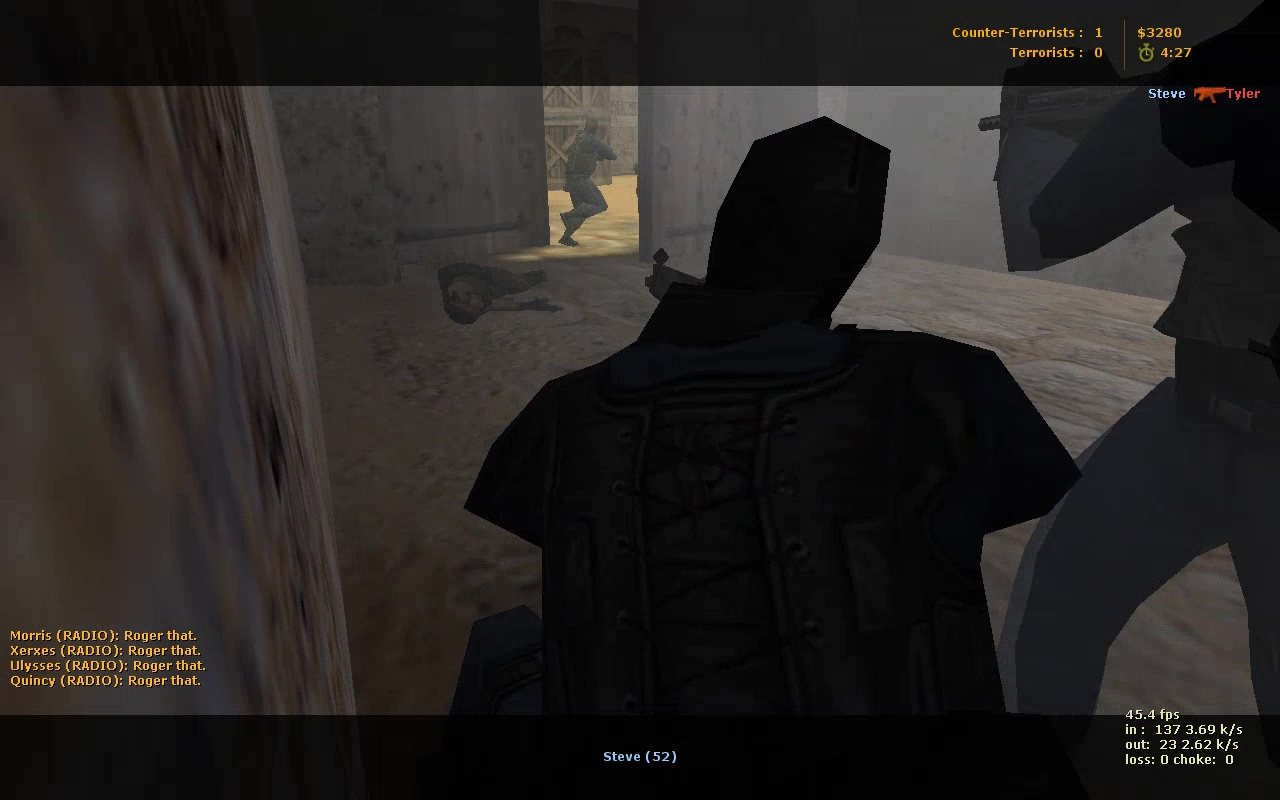ct: (556, 119, 627, 256)
dead: (437, 258, 567, 326)
